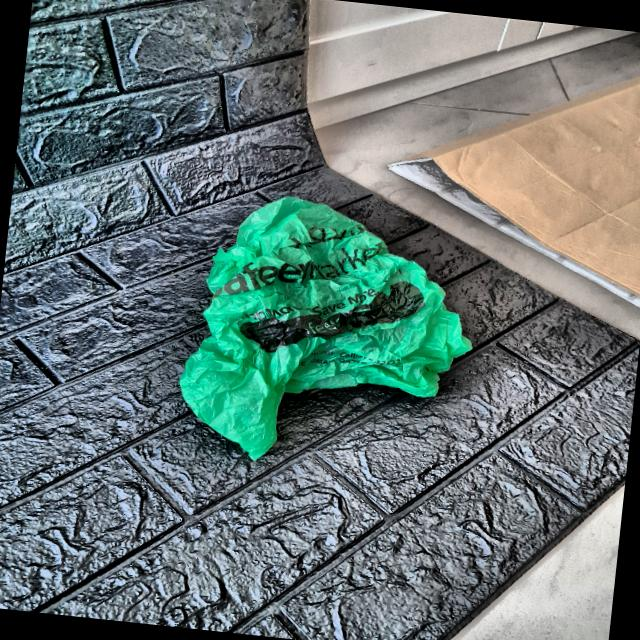plastic bag: (174, 185, 488, 480)
